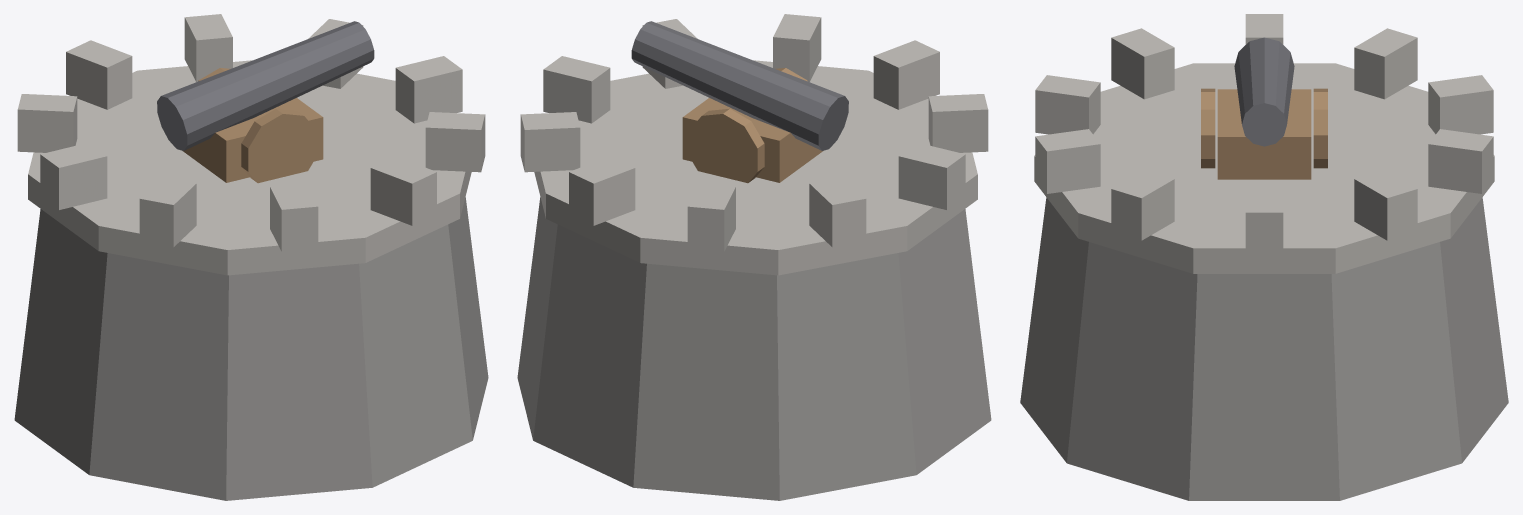
The model's file is CannonTower.fbx.
3 renders of one model, left to right at view 1: azimuth 30°, elevation 25°; view 2: azimuth 150°, elevation 25°; view 3: azimuth 270°, elevation 25°, orthographic.
Parts seen in each view (by area): view 1: CannonTower; view 2: CannonTower; view 3: CannonTower.
Boxes of the visible parts, bbox=[...] form: CannonTower: bbox=[14, 14, 488, 500]; CannonTower: bbox=[517, 14, 991, 500]; CannonTower: bbox=[1020, 14, 1508, 500].
Size of the model in its own units: 5 by 4.14 by 5.2.
